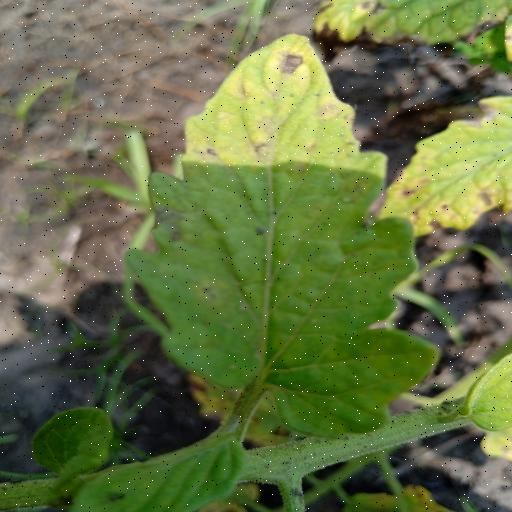Tomato_Brown_Spots: (132, 35, 445, 441), (371, 97, 512, 239)
